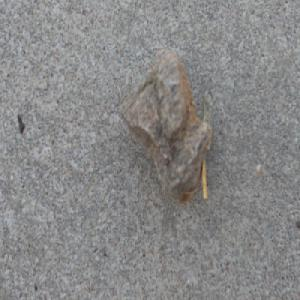Rock: (118, 46, 212, 204)
